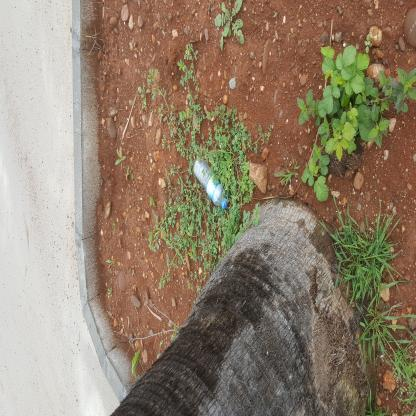trash: (112, 337, 152, 413)
